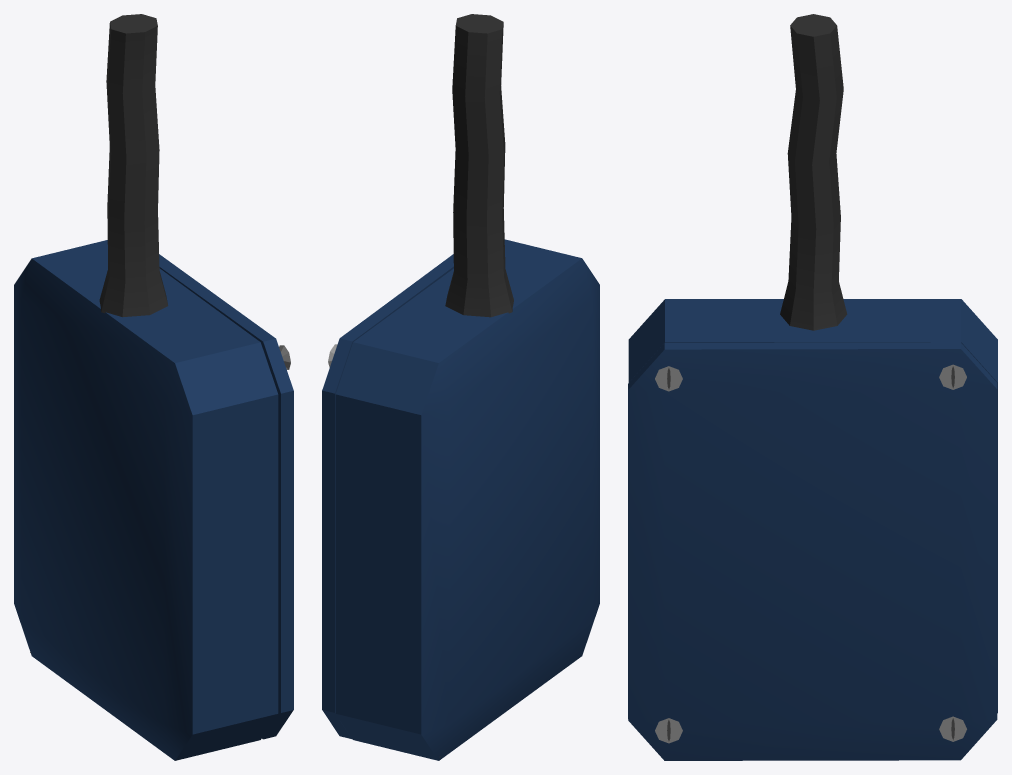
The model's file is fuseBox.fbx.
3 views of the same model, side by side, from view 1: azimuth 30°, elevation 25°; view 2: azimuth 150°, elevation 25°; view 3: azimuth 270°, elevation 25° (orthographic). The views are drawn at different scales.
Visible parts, largest first — view 1: box, door; view 2: box, door; view 3: door, box.
Boxes of the visible parts, x1,y1,x2,y2 form: box: [14, 14, 278, 760]; door: [159, 254, 293, 739]; box: [335, 14, 599, 760]; door: [322, 254, 453, 739]; door: [628, 342, 997, 760]; box: [628, 14, 997, 713].
Bounding box in the file's own units: 64.1 × 341 × 163.
